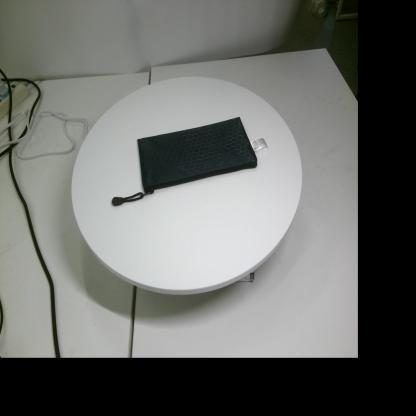Stationery: (112, 117, 268, 206)
